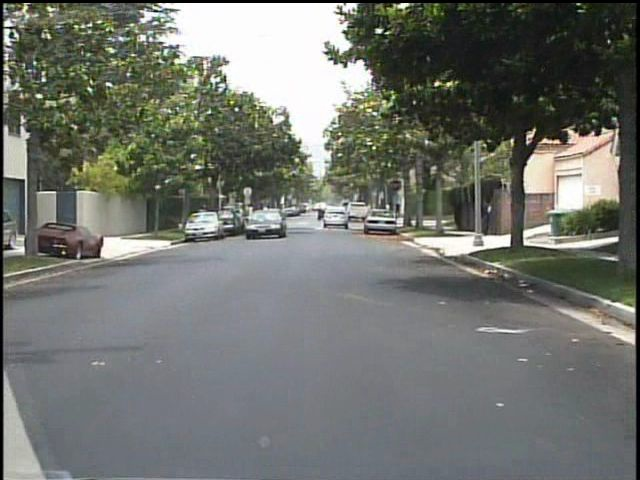person: (482, 192, 496, 237), (195, 202, 210, 231)
